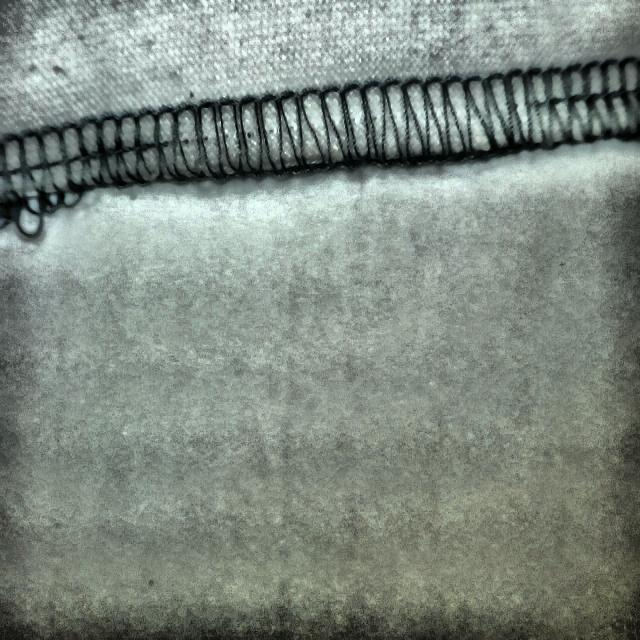Stitch: (2, 127, 88, 240)
